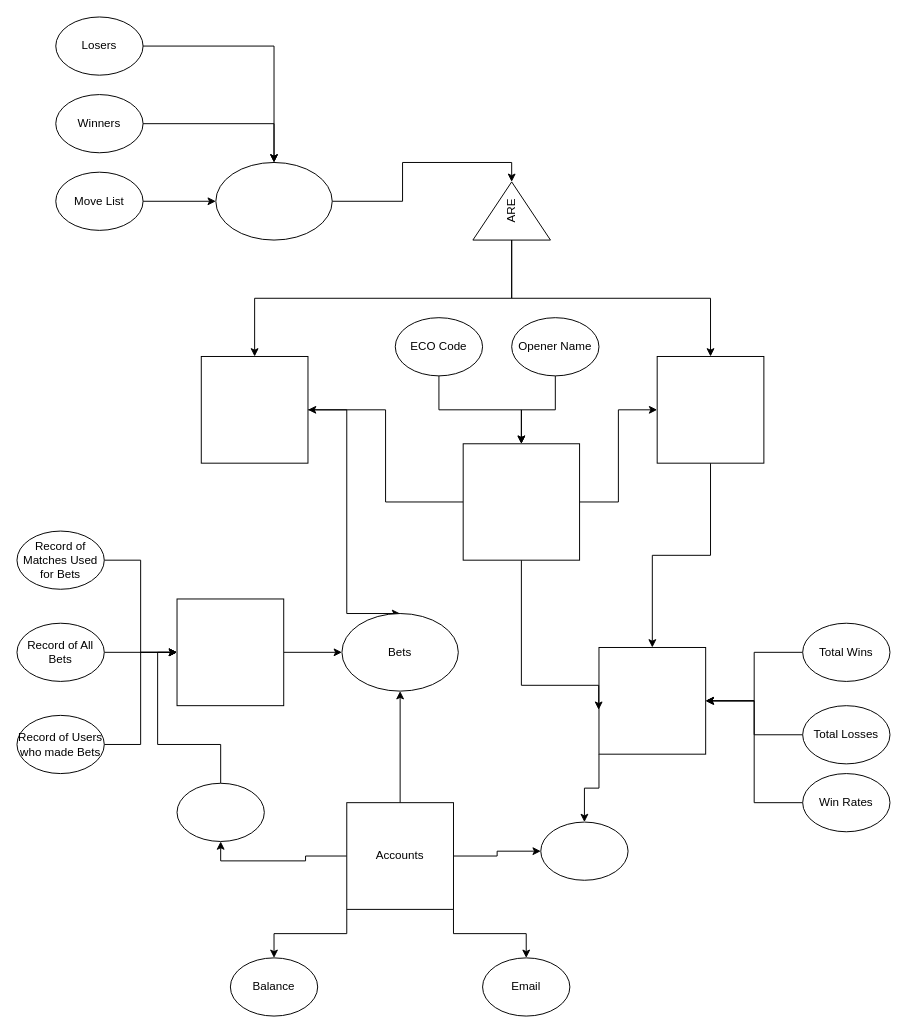
The diagram is 907 pixels wide and 1033 high, and some of its shapes have lost their labels. The box of each missing label's shape, as (x1, y1, x2, y2) in pixels:
Bet Amount: (176, 782, 264, 841)
Betting Logs: (176, 598, 284, 706)
Leaderboards: (598, 647, 706, 754)
Matches: (215, 162, 332, 240)
Openers: (462, 443, 580, 560)
Rated Matches: (200, 356, 308, 463)
Unrated Matches: (656, 356, 764, 463)
User ID: (540, 821, 628, 880)
